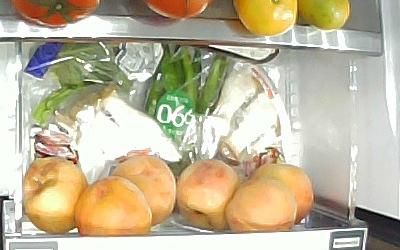peach: (24, 157, 89, 234), (113, 154, 176, 228), (177, 159, 240, 233), (74, 177, 152, 235), (224, 178, 298, 233), (248, 163, 314, 223)
